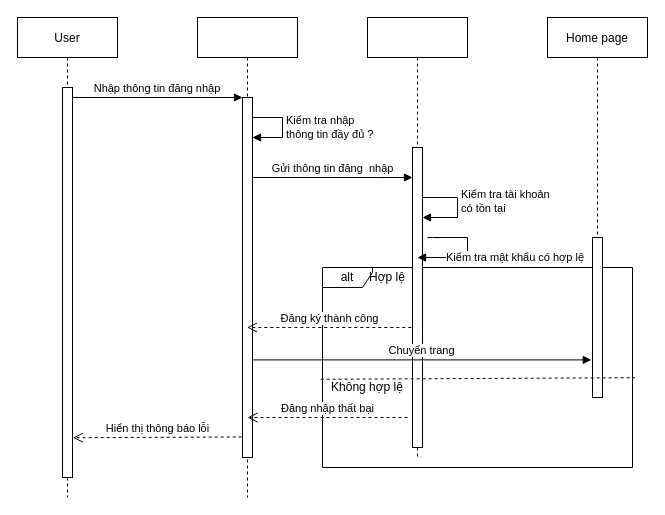
The diagram is 665 pixels wide and 515 high, and some of its shapes have lost their labels. The box of each missing label's shape, as (x1, y1, x2, y2) in pixels:
Api: (366, 16, 468, 458)
Login page: (196, 16, 298, 498)
